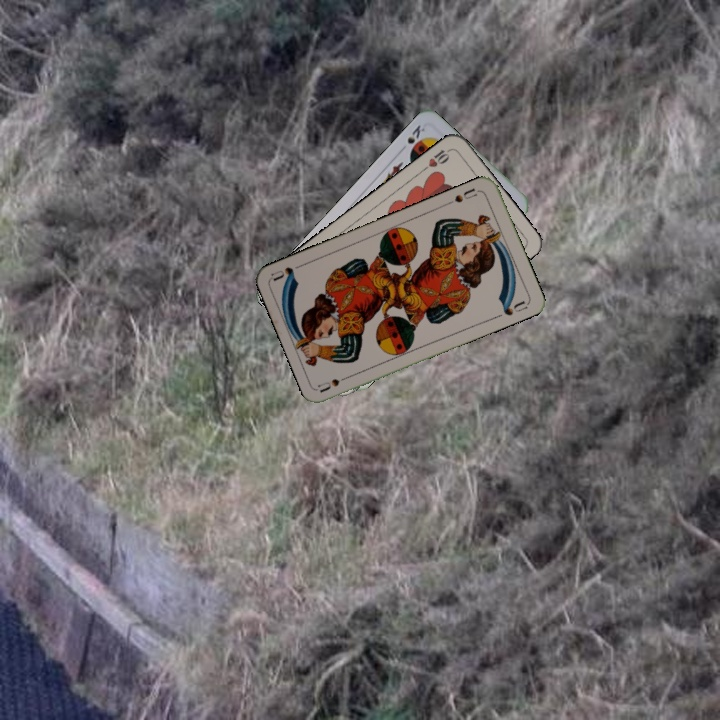H10: (419, 145, 454, 174)
SK: (403, 121, 429, 146)
SU: (315, 370, 355, 394), (443, 184, 482, 207)
